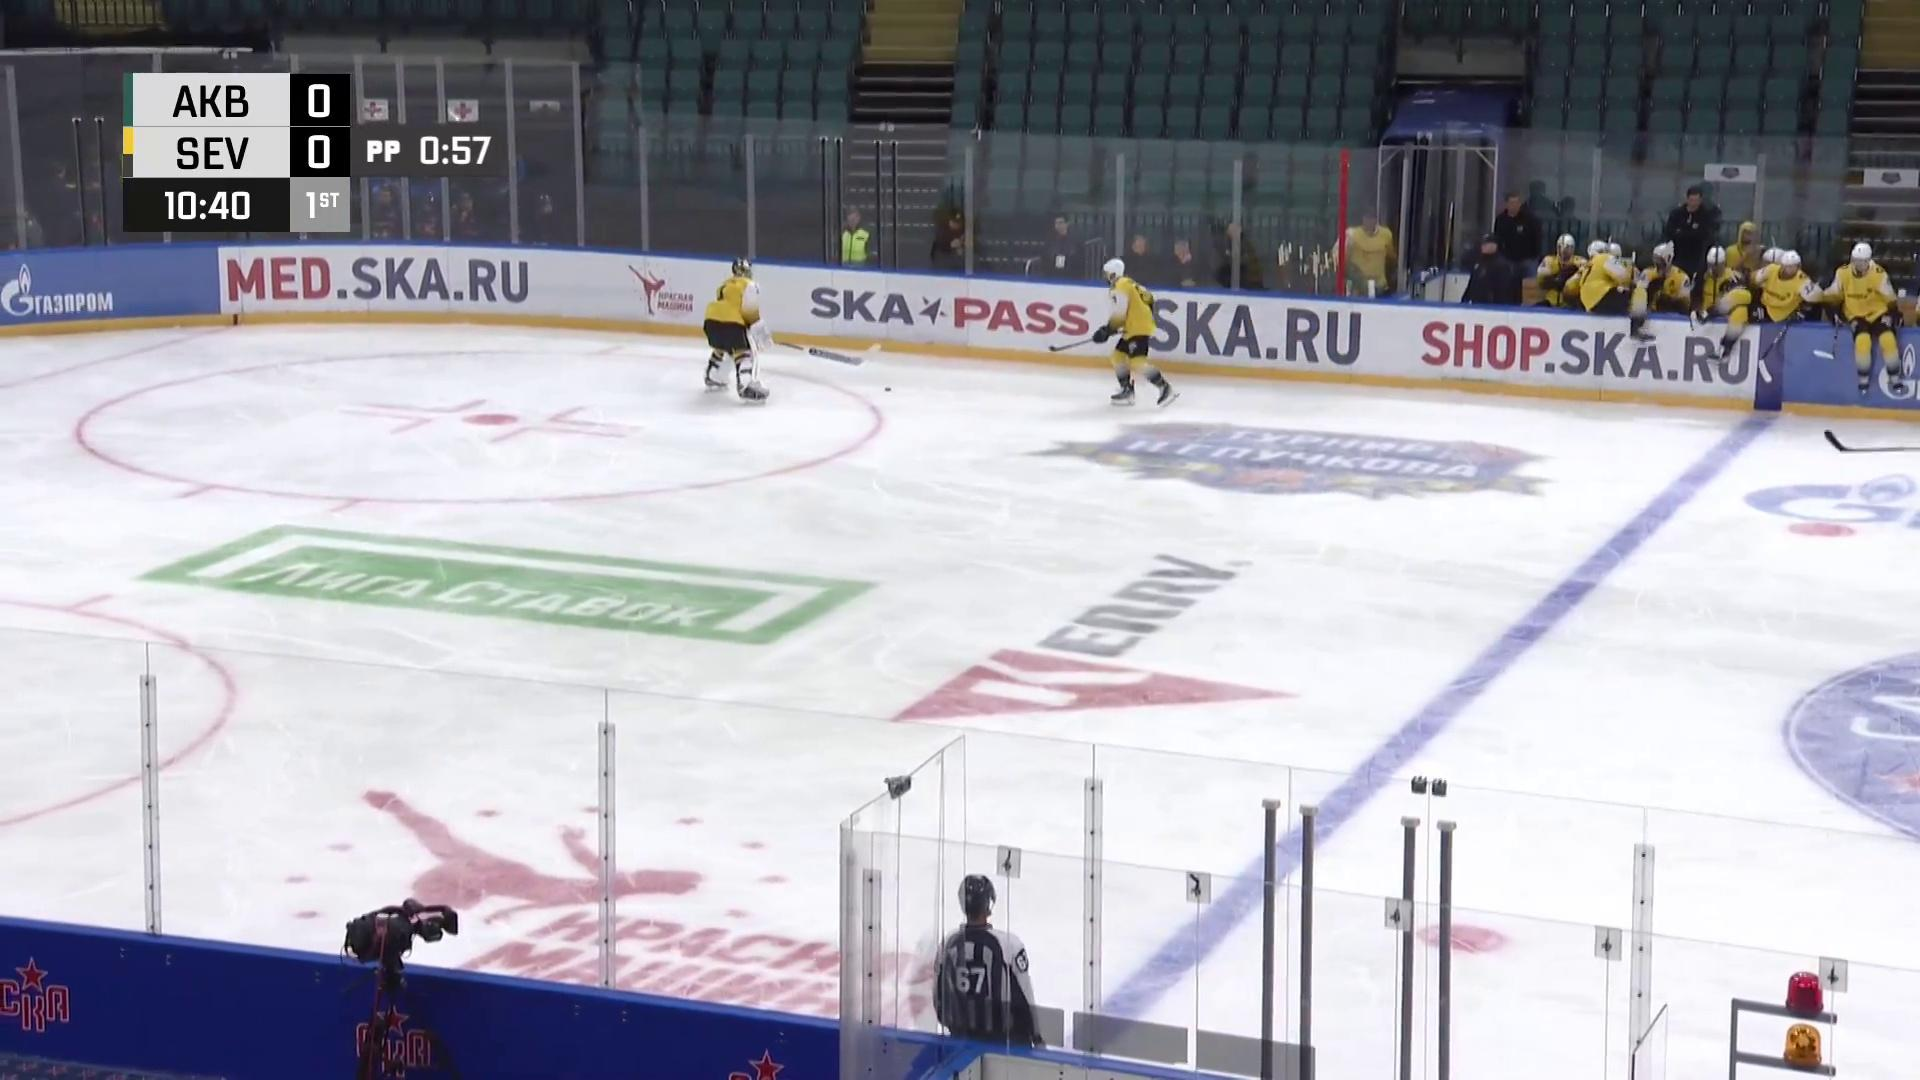ball: (884, 388, 894, 393)
